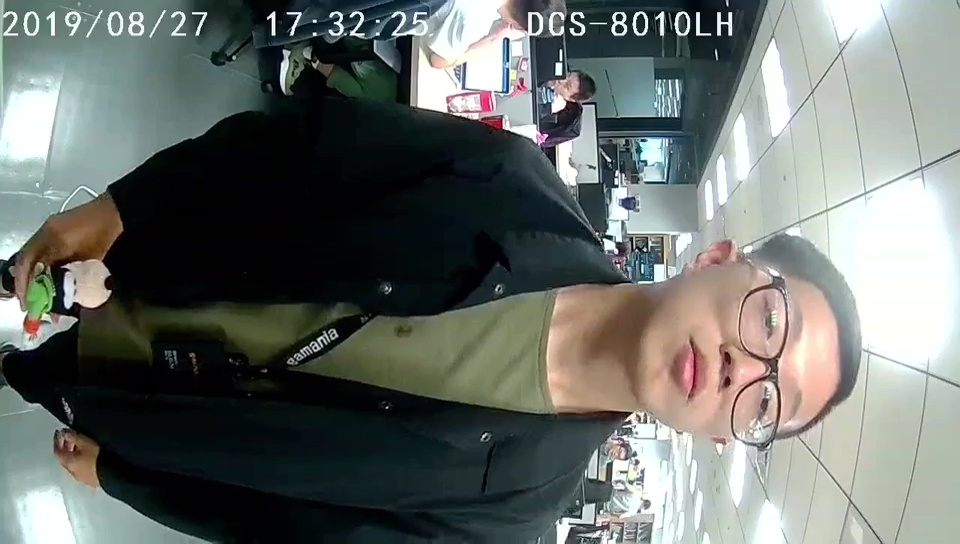goofy: (19, 259, 113, 347)
